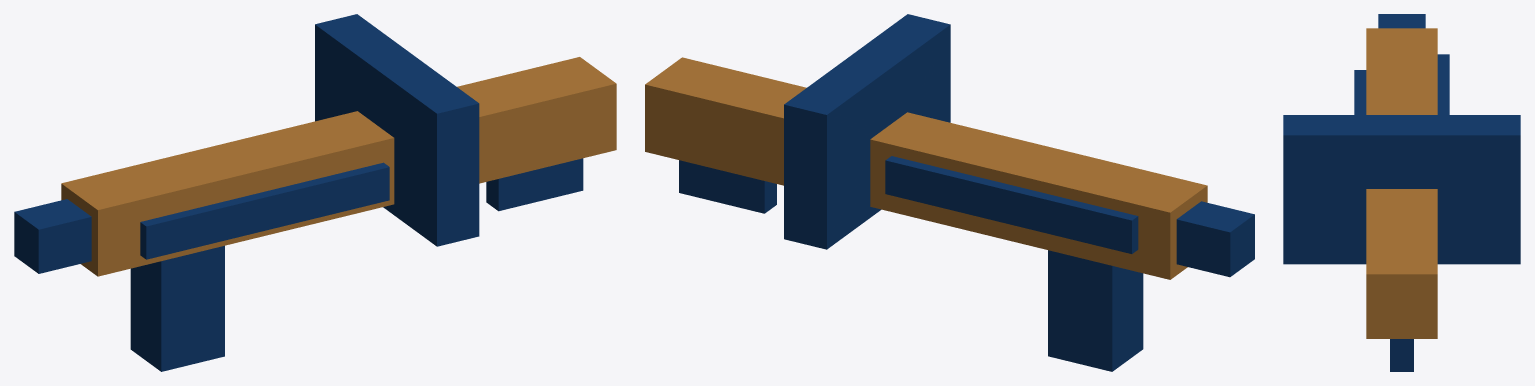
The model's file is Gub.obj.
3 renders of one model, left to right at view 1: azimuth 30°, elevation 25°; view 2: azimuth 150°, elevation 25°; view 3: azimuth 270°, elevation 25°, orthographic. The views are drawn at different scales.
Bounding box in the file's own units: 5.4 × 2.1 × 2.
1 material, 1 textured.
